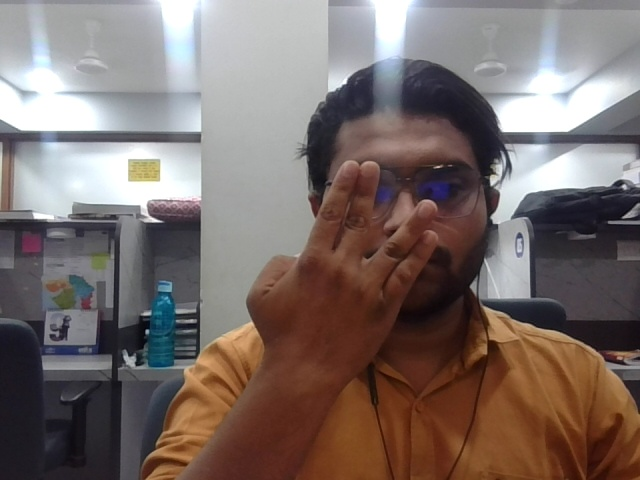LiveLong: (268, 160, 448, 391)
